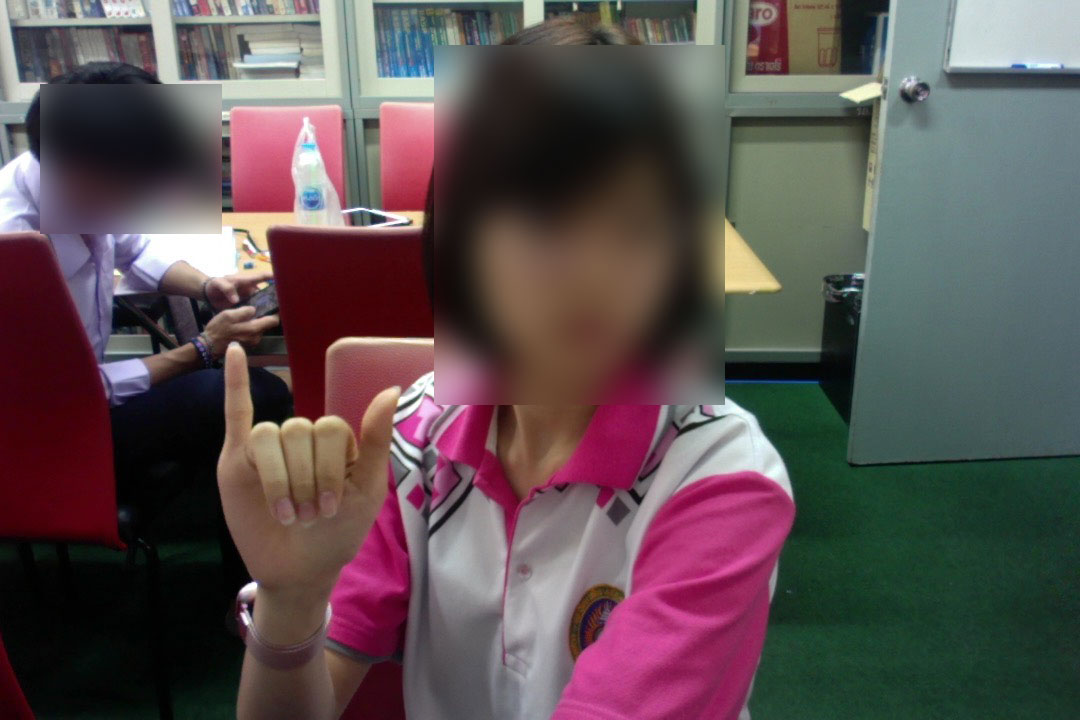yor: (212, 334, 407, 599)
